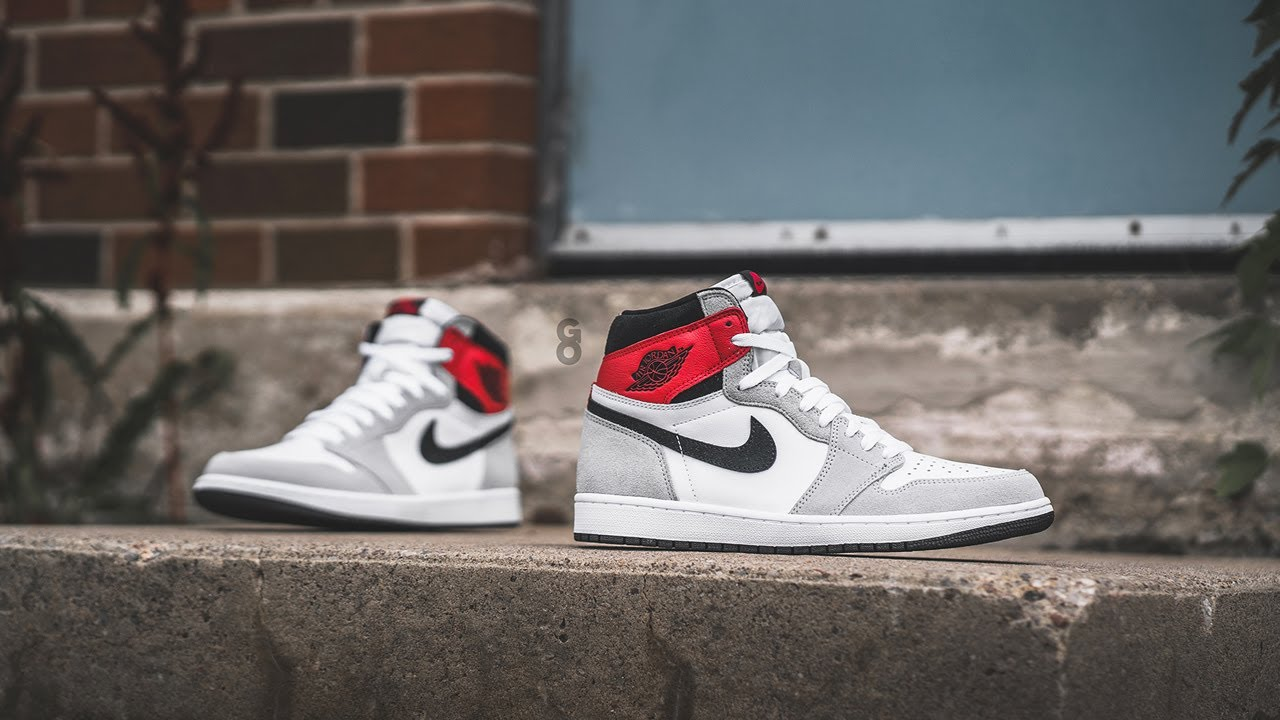Jordan 1: (570, 272, 1062, 572), (189, 282, 530, 536)
